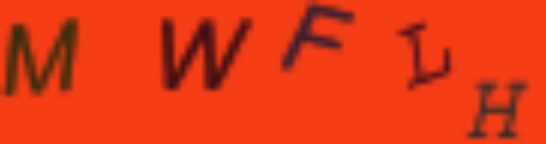F: (274, 3, 359, 74)
H: (465, 77, 529, 142)
L: (394, 18, 461, 90)
M: (3, 14, 81, 103)
W: (149, 14, 257, 94)
